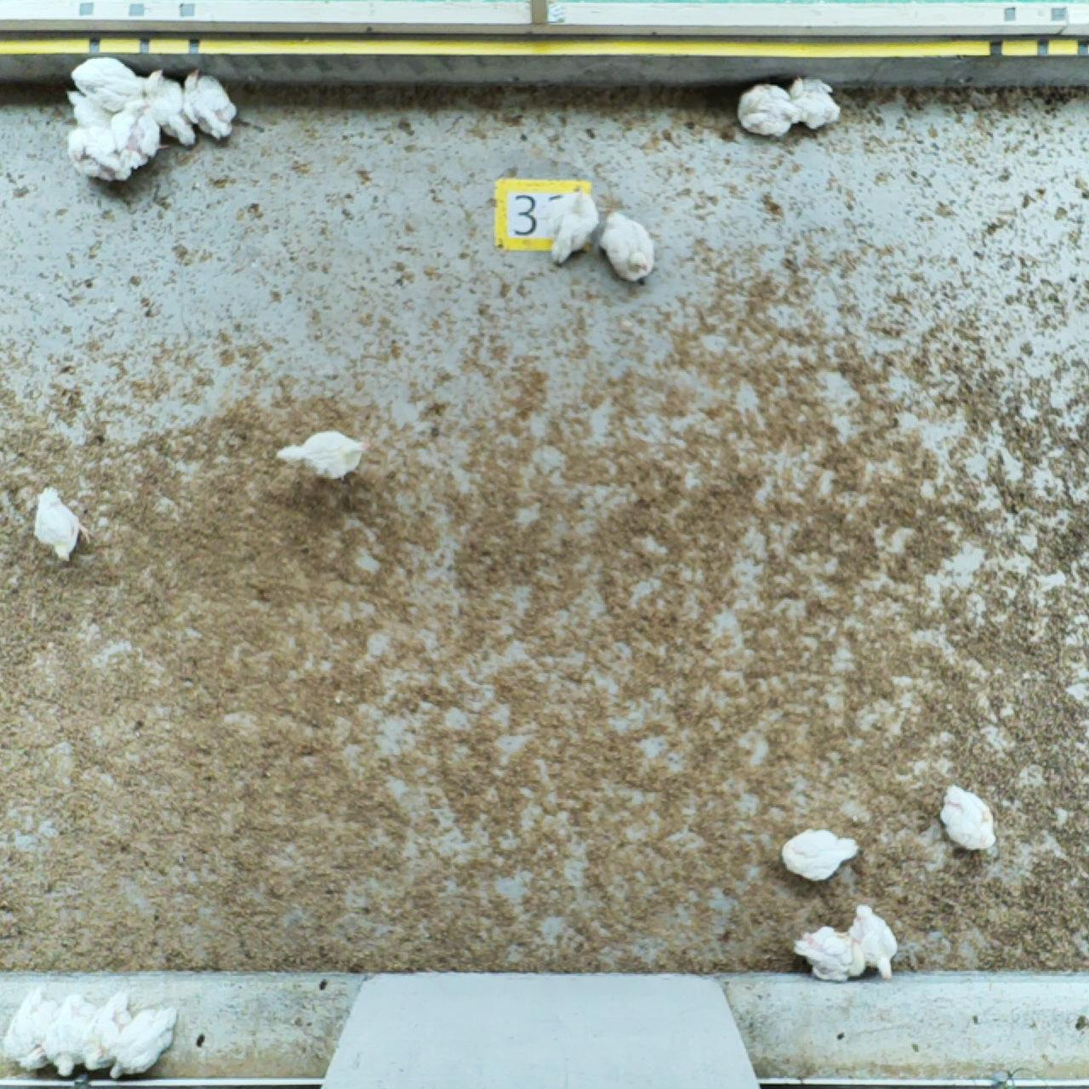chicken: (114, 1004, 182, 1087), (275, 426, 374, 483), (67, 54, 157, 113), (140, 68, 201, 150), (31, 484, 94, 563), (44, 985, 100, 1073), (85, 980, 136, 1073), (180, 68, 242, 143), (602, 205, 659, 286), (66, 122, 138, 186), (938, 781, 1001, 853), (3, 984, 54, 1071), (775, 826, 861, 877), (793, 924, 869, 980), (546, 189, 600, 266), (735, 79, 806, 137), (849, 903, 901, 978), (788, 73, 846, 132), (112, 103, 164, 162), (66, 84, 115, 132)
